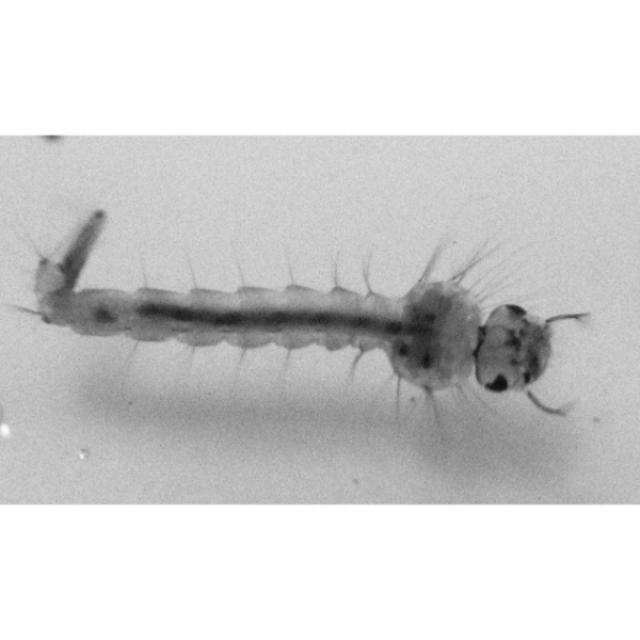larvas: (44, 213, 558, 392)
